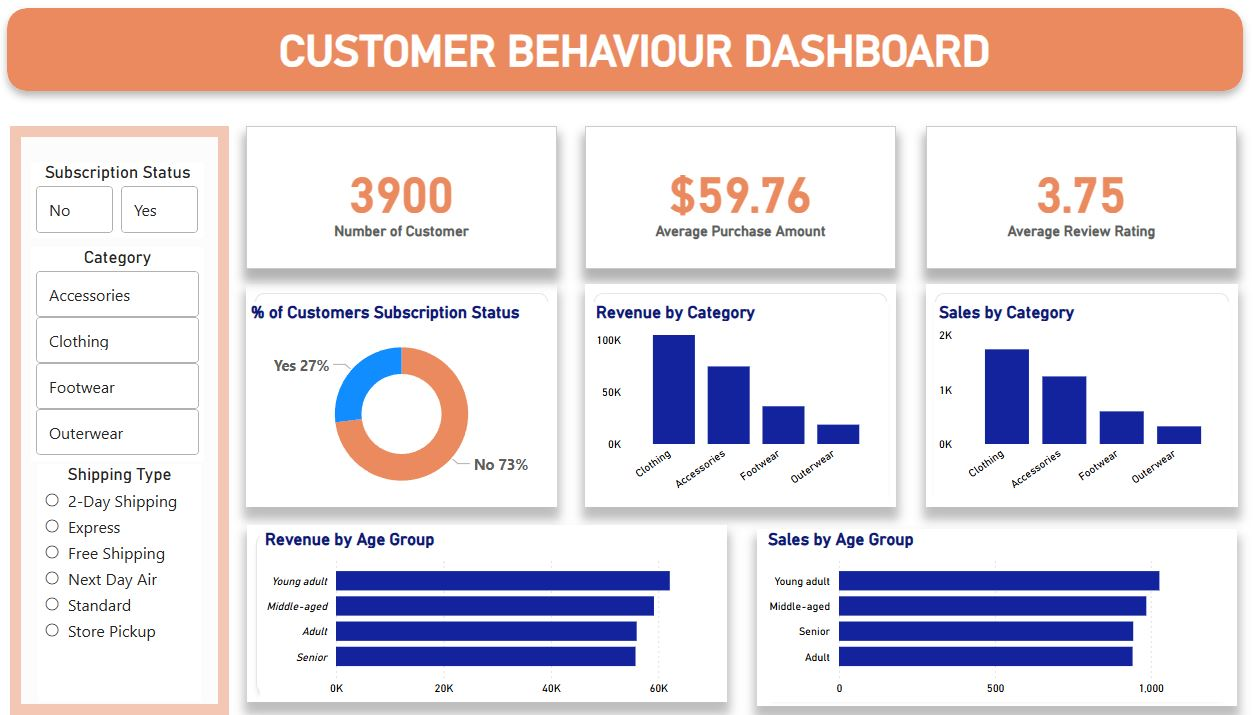

This screenshot's page, from the dashboard's own definition file:
{"tool":"powerbi","page":{"name":"Page 1","canvas":[1280,720],"ordinal":0},"visuals":[{"type":"shape","box":[15.6,131.1,220,588.9],"z":2500},{"type":"shape","box":[0,0,1280,108.9],"z":3000},{"type":"shape","box":[251.9,289.2,311.4,222.5],"z":4000},{"type":"card","fields":{"Values":["public customer.Number of Customer"]},"box":[252.2,131.1,311.1,143.3],"z":4250},{"type":"card","fields":{"Values":["public customer.Average Review Rating"]},"box":[932.2,131.1,311.1,143.3],"z":4500},{"type":"card","fields":{"Values":["public customer.Average Purchase Amount"]},"box":[591.1,131.1,311.1,143.3],"z":4750},{"type":"donutChart","title":"% of Customers Subscription Status","fields":{"Category":["public customer.subscription_status"],"Y":["CountNonNull(public customer.customer_id)"]},"box":[251.9,307.3,311.4,204.4],"z":5000},{"type":"textbox","box":[174.9,25.5,931.3,67.8],"z":6000},{"type":"shape","box":[590.8,289.2,311.4,222.5],"z":7000},{"type":"shape","box":[932.4,289.2,311.4,222.5],"z":8000},{"type":"lineClusteredColumnComboChart","title":"Revenue by Category","fields":{"Y":["Sum(public customer.purchase_amount)"],"Category":["public customer.category"]},"box":[596.9,307.3,296.7,204.4],"z":9000},{"type":"lineClusteredColumnComboChart","title":"Sales by Category","fields":{"Y":["Sum(public customer.customer_id)"],"Category":["public customer.category"]},"box":[940.2,307.3,296.7,204.4],"z":10000},{"type":"advancedSlicerVisual","title":"Subscription Status","fields":{"Values":["public customer.subscription_status"]},"box":[36.7,166.7,173.3,76.7],"z":11000},{"type":"advancedSlicerVisual","title":"Category","fields":{"Values":["public customer.category"]},"box":[36.7,260,173.3,198.9],"z":13000},{"type":"listSlicer","title":"Shipping Type","fields":{"Values":["public customer.shipping_type"]},"box":[44.4,468.9,162.2,237.8],"z":14000},{"type":"shape","box":[253.3,530,480,176.7],"z":16000},{"type":"clusteredBarChart","title":"Revenue  by Age Group","fields":{"Y":["Sum(public customer.purchase_amount)"],"Category":["public customer.age_group"]},"box":[265.6,534.4,467.8,172.2],"z":17000},{"type":"shape","box":[763.3,534.4,480,176.7],"z":19000},{"type":"clusteredBarChart","title":"Sales by Age Grou","fields":{"Y":["CountNonNull(public customer.customer_id)"],"Category":["public customer.age_group"]},"box":[768.9,534.4,467.8,172.2],"z":19500}]}

Visuals, with their boxes in screenshot pixels (x1, y1, x2, y2), scaled from the page's 1280x720 canvas onto the 1253x715 screenshot:
shape: l=15, t=130, r=231, b=714
shape: l=0, t=0, r=1252, b=108
shape: l=247, t=287, r=551, b=508
card - public customer.Number of Customer: l=247, t=130, r=551, b=272
card - public customer.Average Review Rating: l=913, t=130, r=1217, b=272
card - public customer.Average Purchase Amount: l=579, t=130, r=883, b=272
"% of Customers Subscription Status" donutChart: l=247, t=305, r=551, b=508
textbox: l=171, t=25, r=1083, b=93
shape: l=578, t=287, r=883, b=508
shape: l=913, t=287, r=1218, b=508
"Revenue by Category" lineClusteredColumnComboChart: l=584, t=305, r=875, b=508
"Sales by Category" lineClusteredColumnComboChart: l=920, t=305, r=1211, b=508
"Subscription Status" advancedSlicerVisual: l=36, t=166, r=206, b=242
"Category" advancedSlicerVisual: l=36, t=258, r=206, b=456
"Shipping Type" listSlicer: l=43, t=466, r=202, b=702
shape: l=248, t=526, r=718, b=702
"Revenue  by Age Group" clusteredBarChart: l=260, t=531, r=718, b=702
shape: l=747, t=531, r=1217, b=706
"Sales by Age Grou" clusteredBarChart: l=753, t=531, r=1211, b=702
